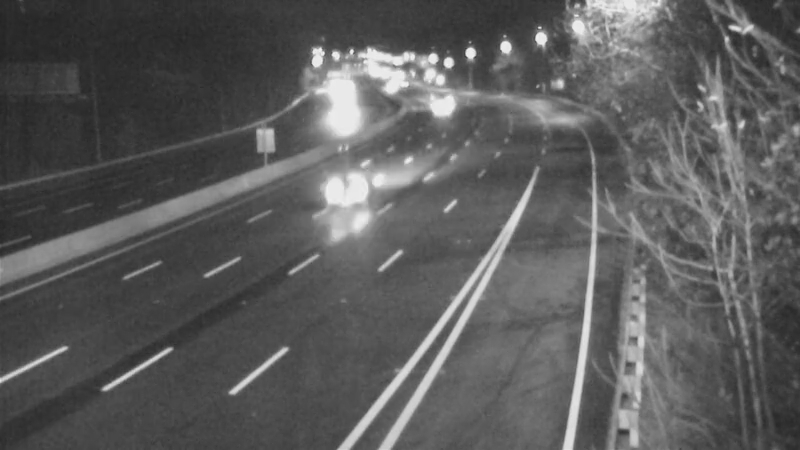vehicle: (312, 152, 392, 232), (368, 61, 418, 111), (417, 81, 467, 131)
